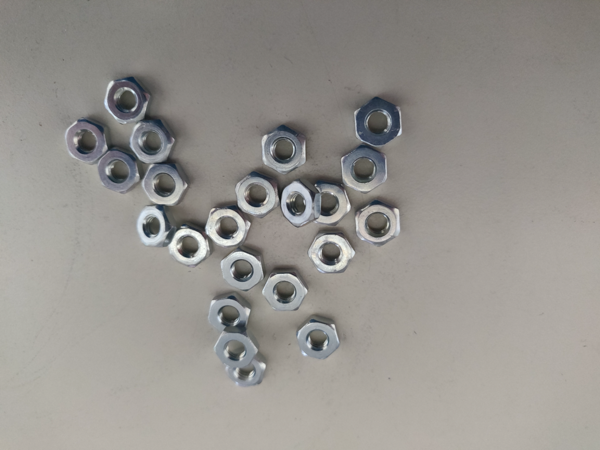nut: (354, 199, 404, 249), (355, 97, 403, 146), (105, 76, 153, 123), (307, 227, 354, 274), (141, 162, 190, 207), (262, 124, 306, 173), (65, 118, 112, 163), (342, 149, 387, 195), (130, 118, 176, 163), (278, 181, 321, 227), (261, 271, 308, 313), (294, 318, 340, 360), (98, 151, 142, 194), (234, 173, 277, 216), (207, 209, 253, 248), (214, 330, 260, 369), (221, 251, 264, 290), (170, 226, 211, 266), (136, 206, 175, 247), (209, 294, 252, 331), (312, 186, 352, 223), (225, 360, 266, 387)
